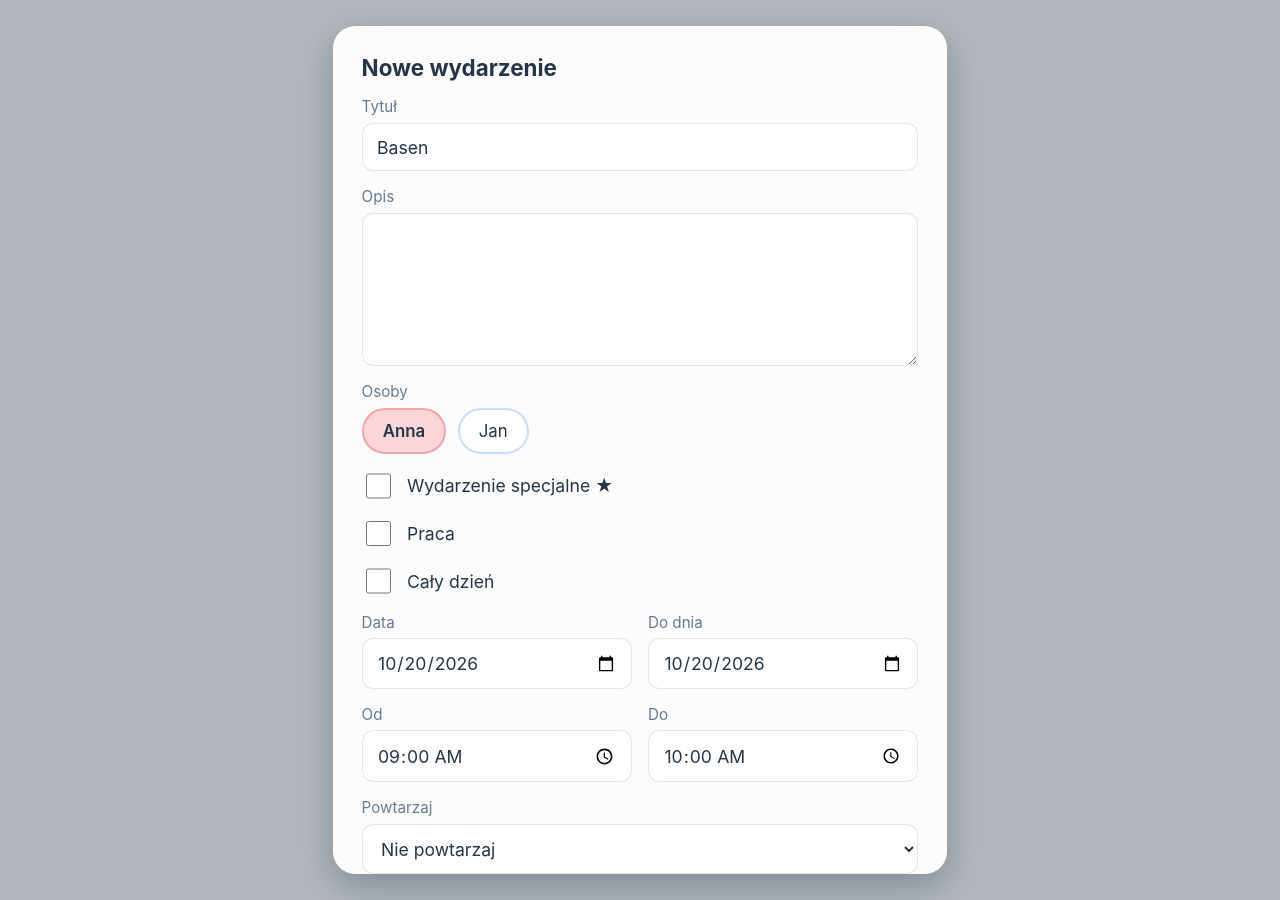
Test: repeating › of a new event › does not save without a weekday, nor with an end before the start, and says why
This screenshot has width=1280, height=900.
Select "Co tydzień w wybrane dni" in the dropdown labelled "Powtarzaj". click: [640, 849]
box: [362,824,918,874]
(page scrolled)
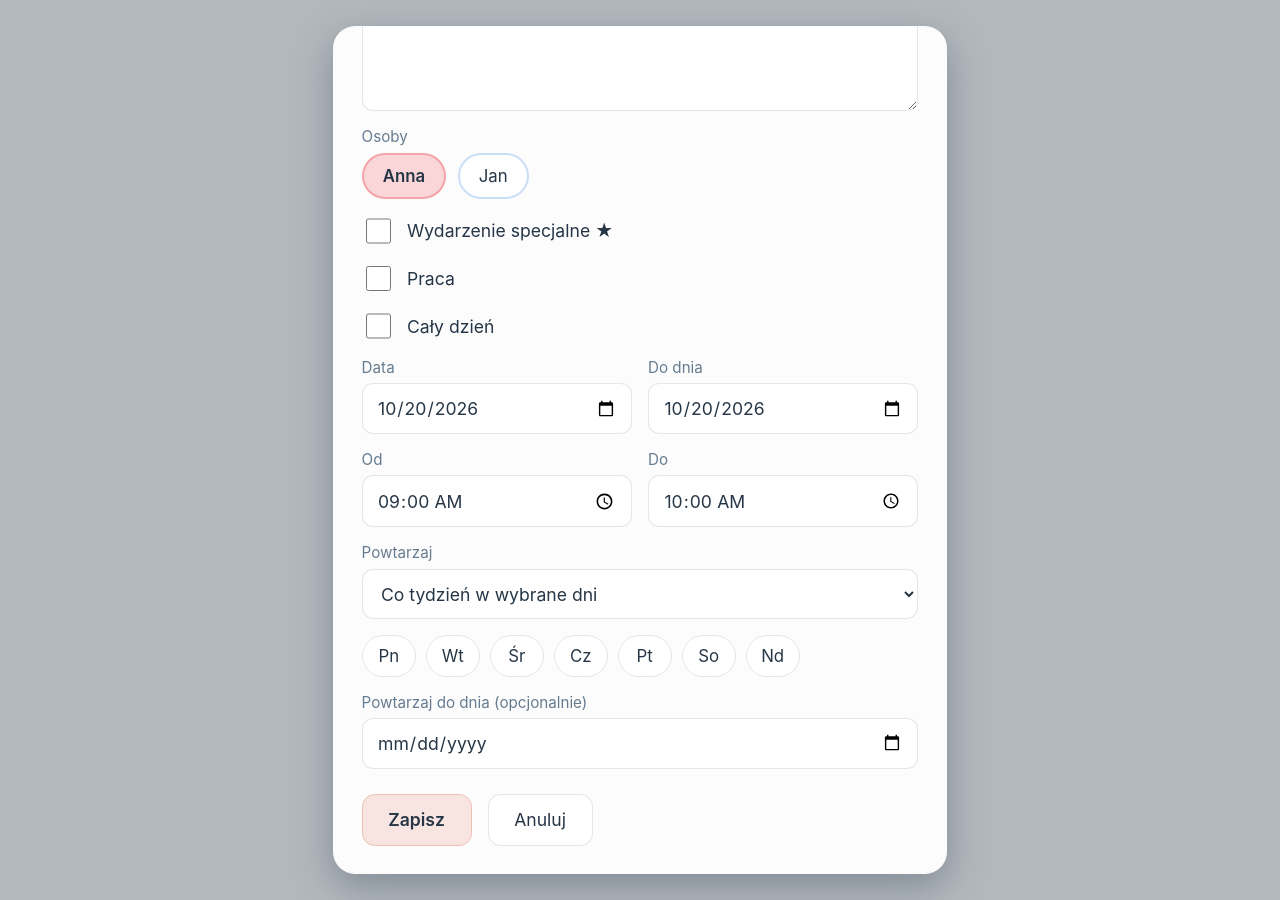
Click the button "Zapisz". click: [417, 820]
box: [362,794,472,846]
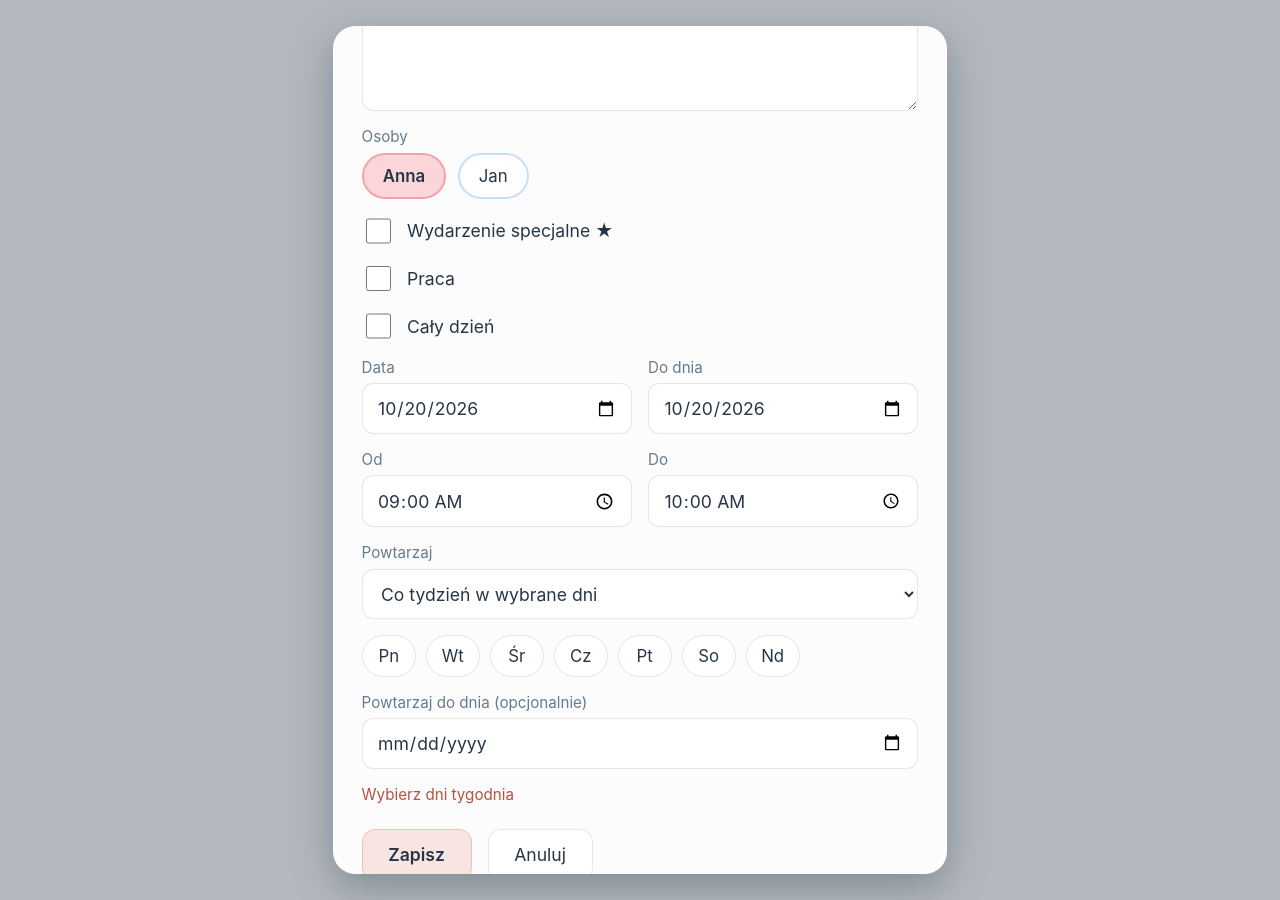
Expected: the message reads "Wybierz dni tygodnia", [362,784,514,804]
Click the button "Pn". click: [389, 656]
box: [362,635,416,676]
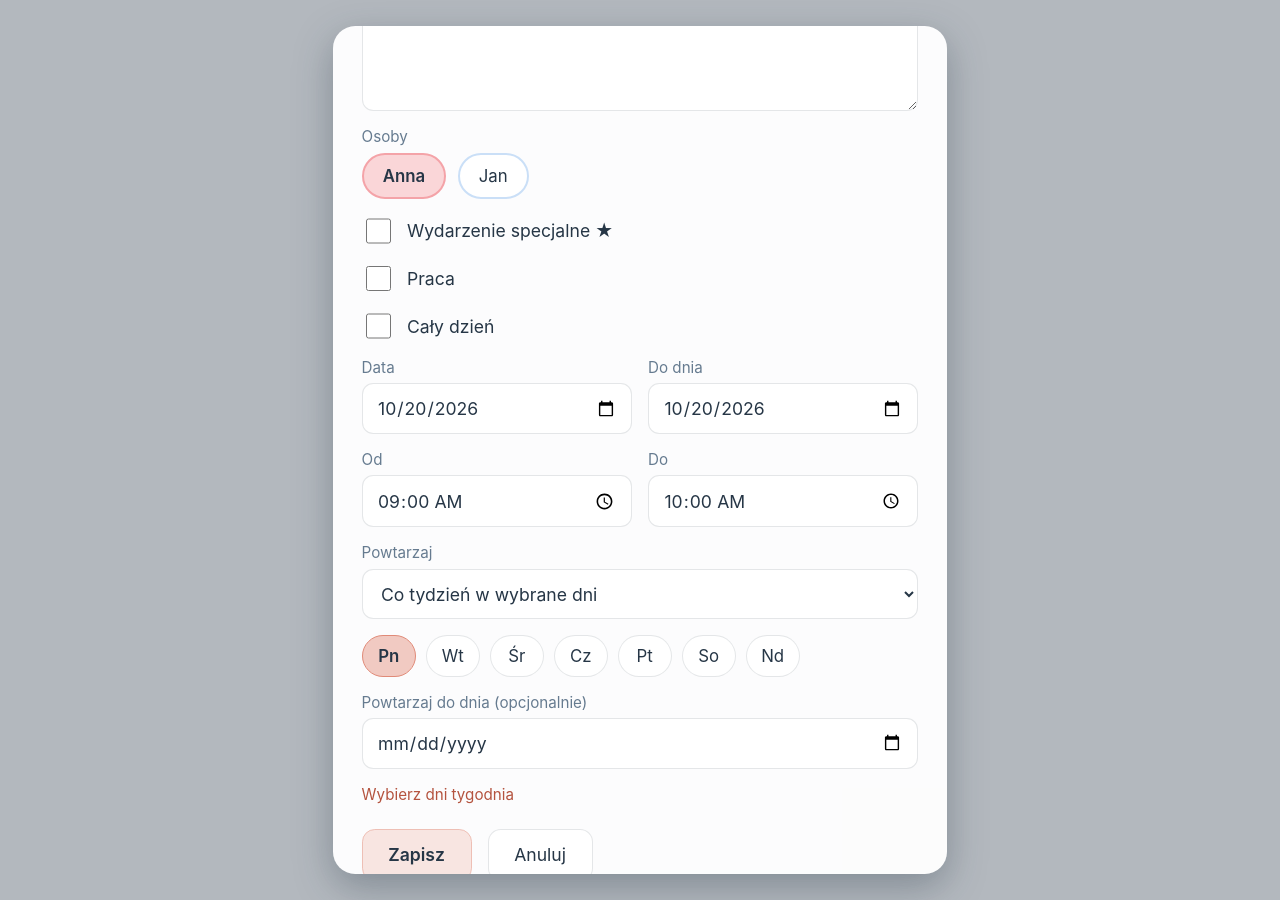
Type "2026-10-01" into the date field labelled "Powtarzaj do dnia (opcjonalnie)". click: [640, 743]
box: [362,718,918,768]
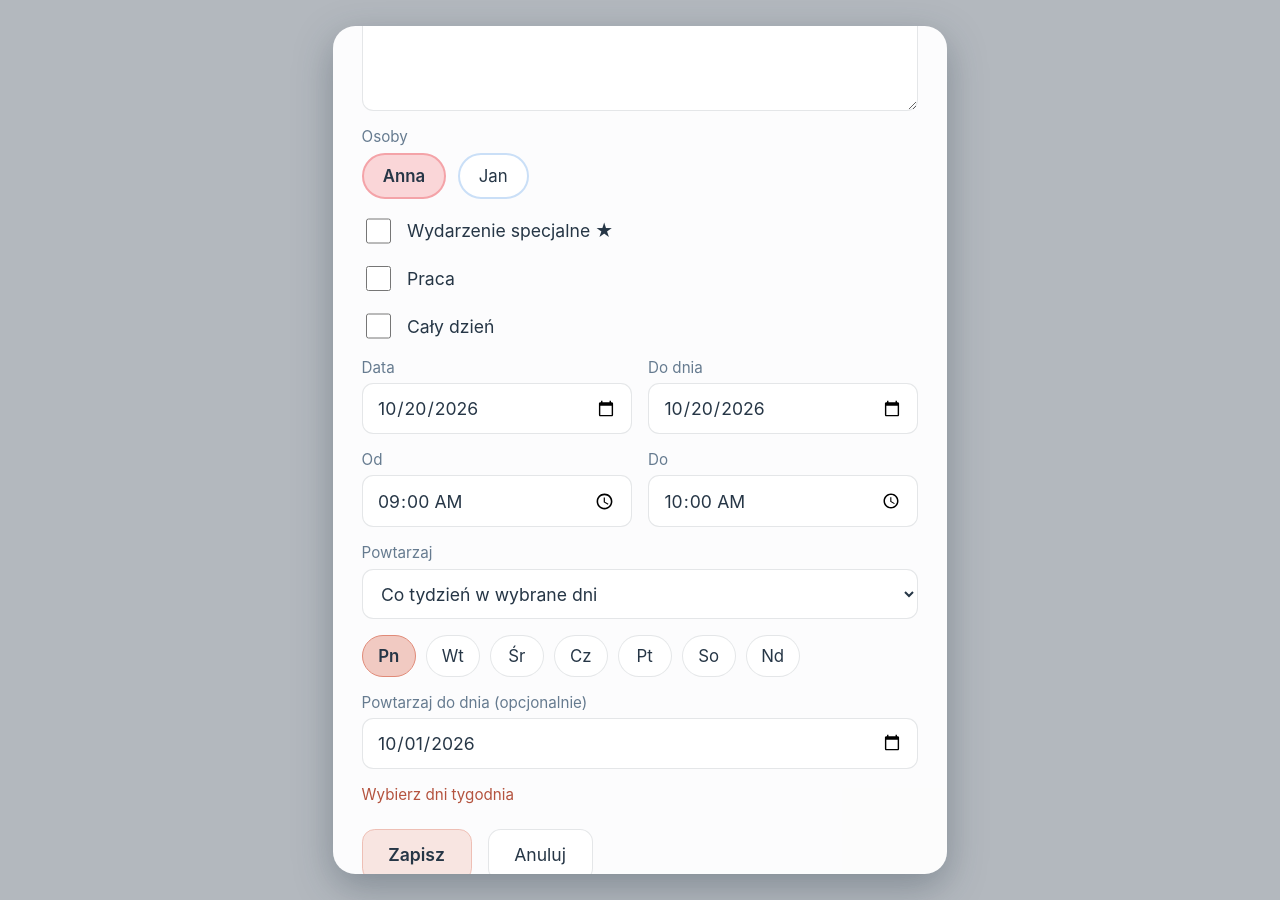
Click the button "Zapisz". click: [417, 855]
box: [362,829,472,881]
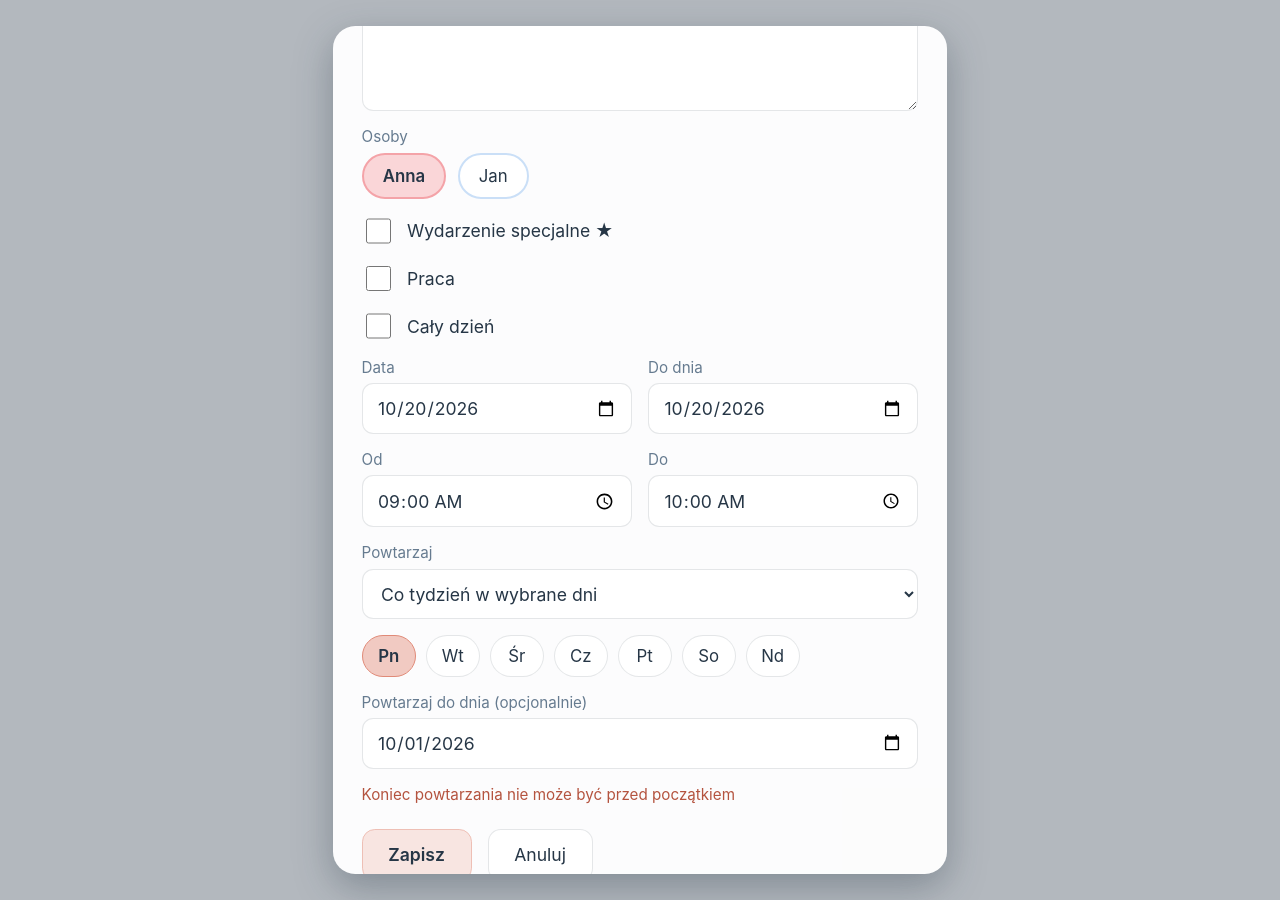
Expected: the message reads "Koniec powtarzania nie może być przed początkiem", [362,784,735,804]
